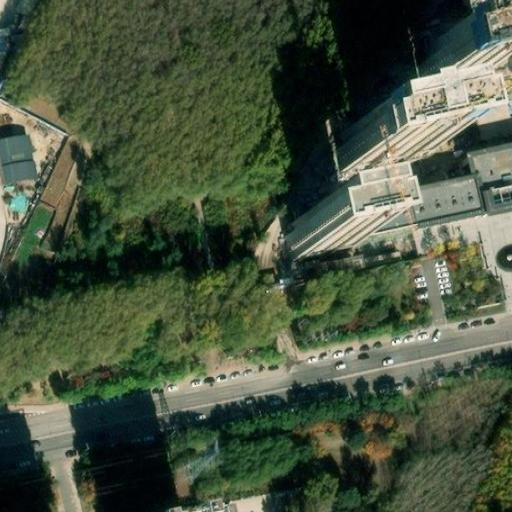building: (355, 149, 512, 241), (337, 115, 444, 176), (287, 202, 363, 256), (427, 20, 505, 71), (0, 138, 34, 179)
